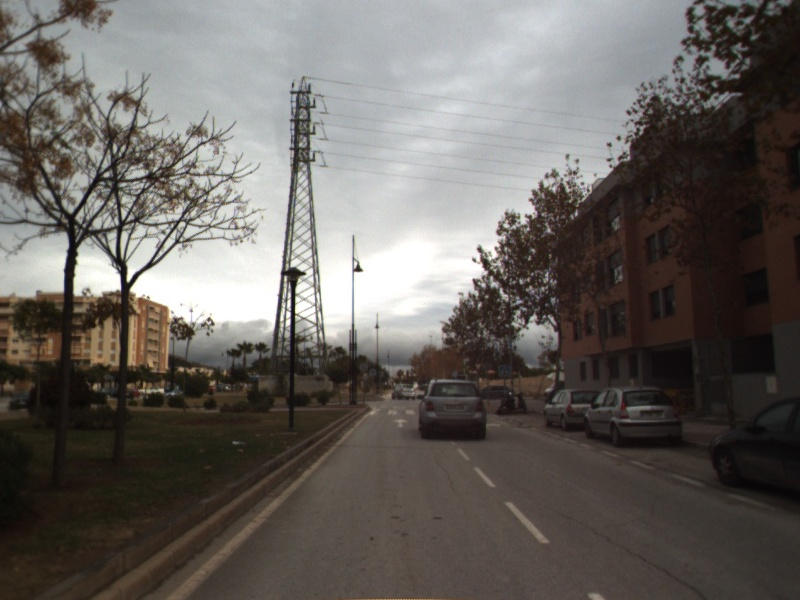STRAIGHT: (392, 416, 410, 429)
